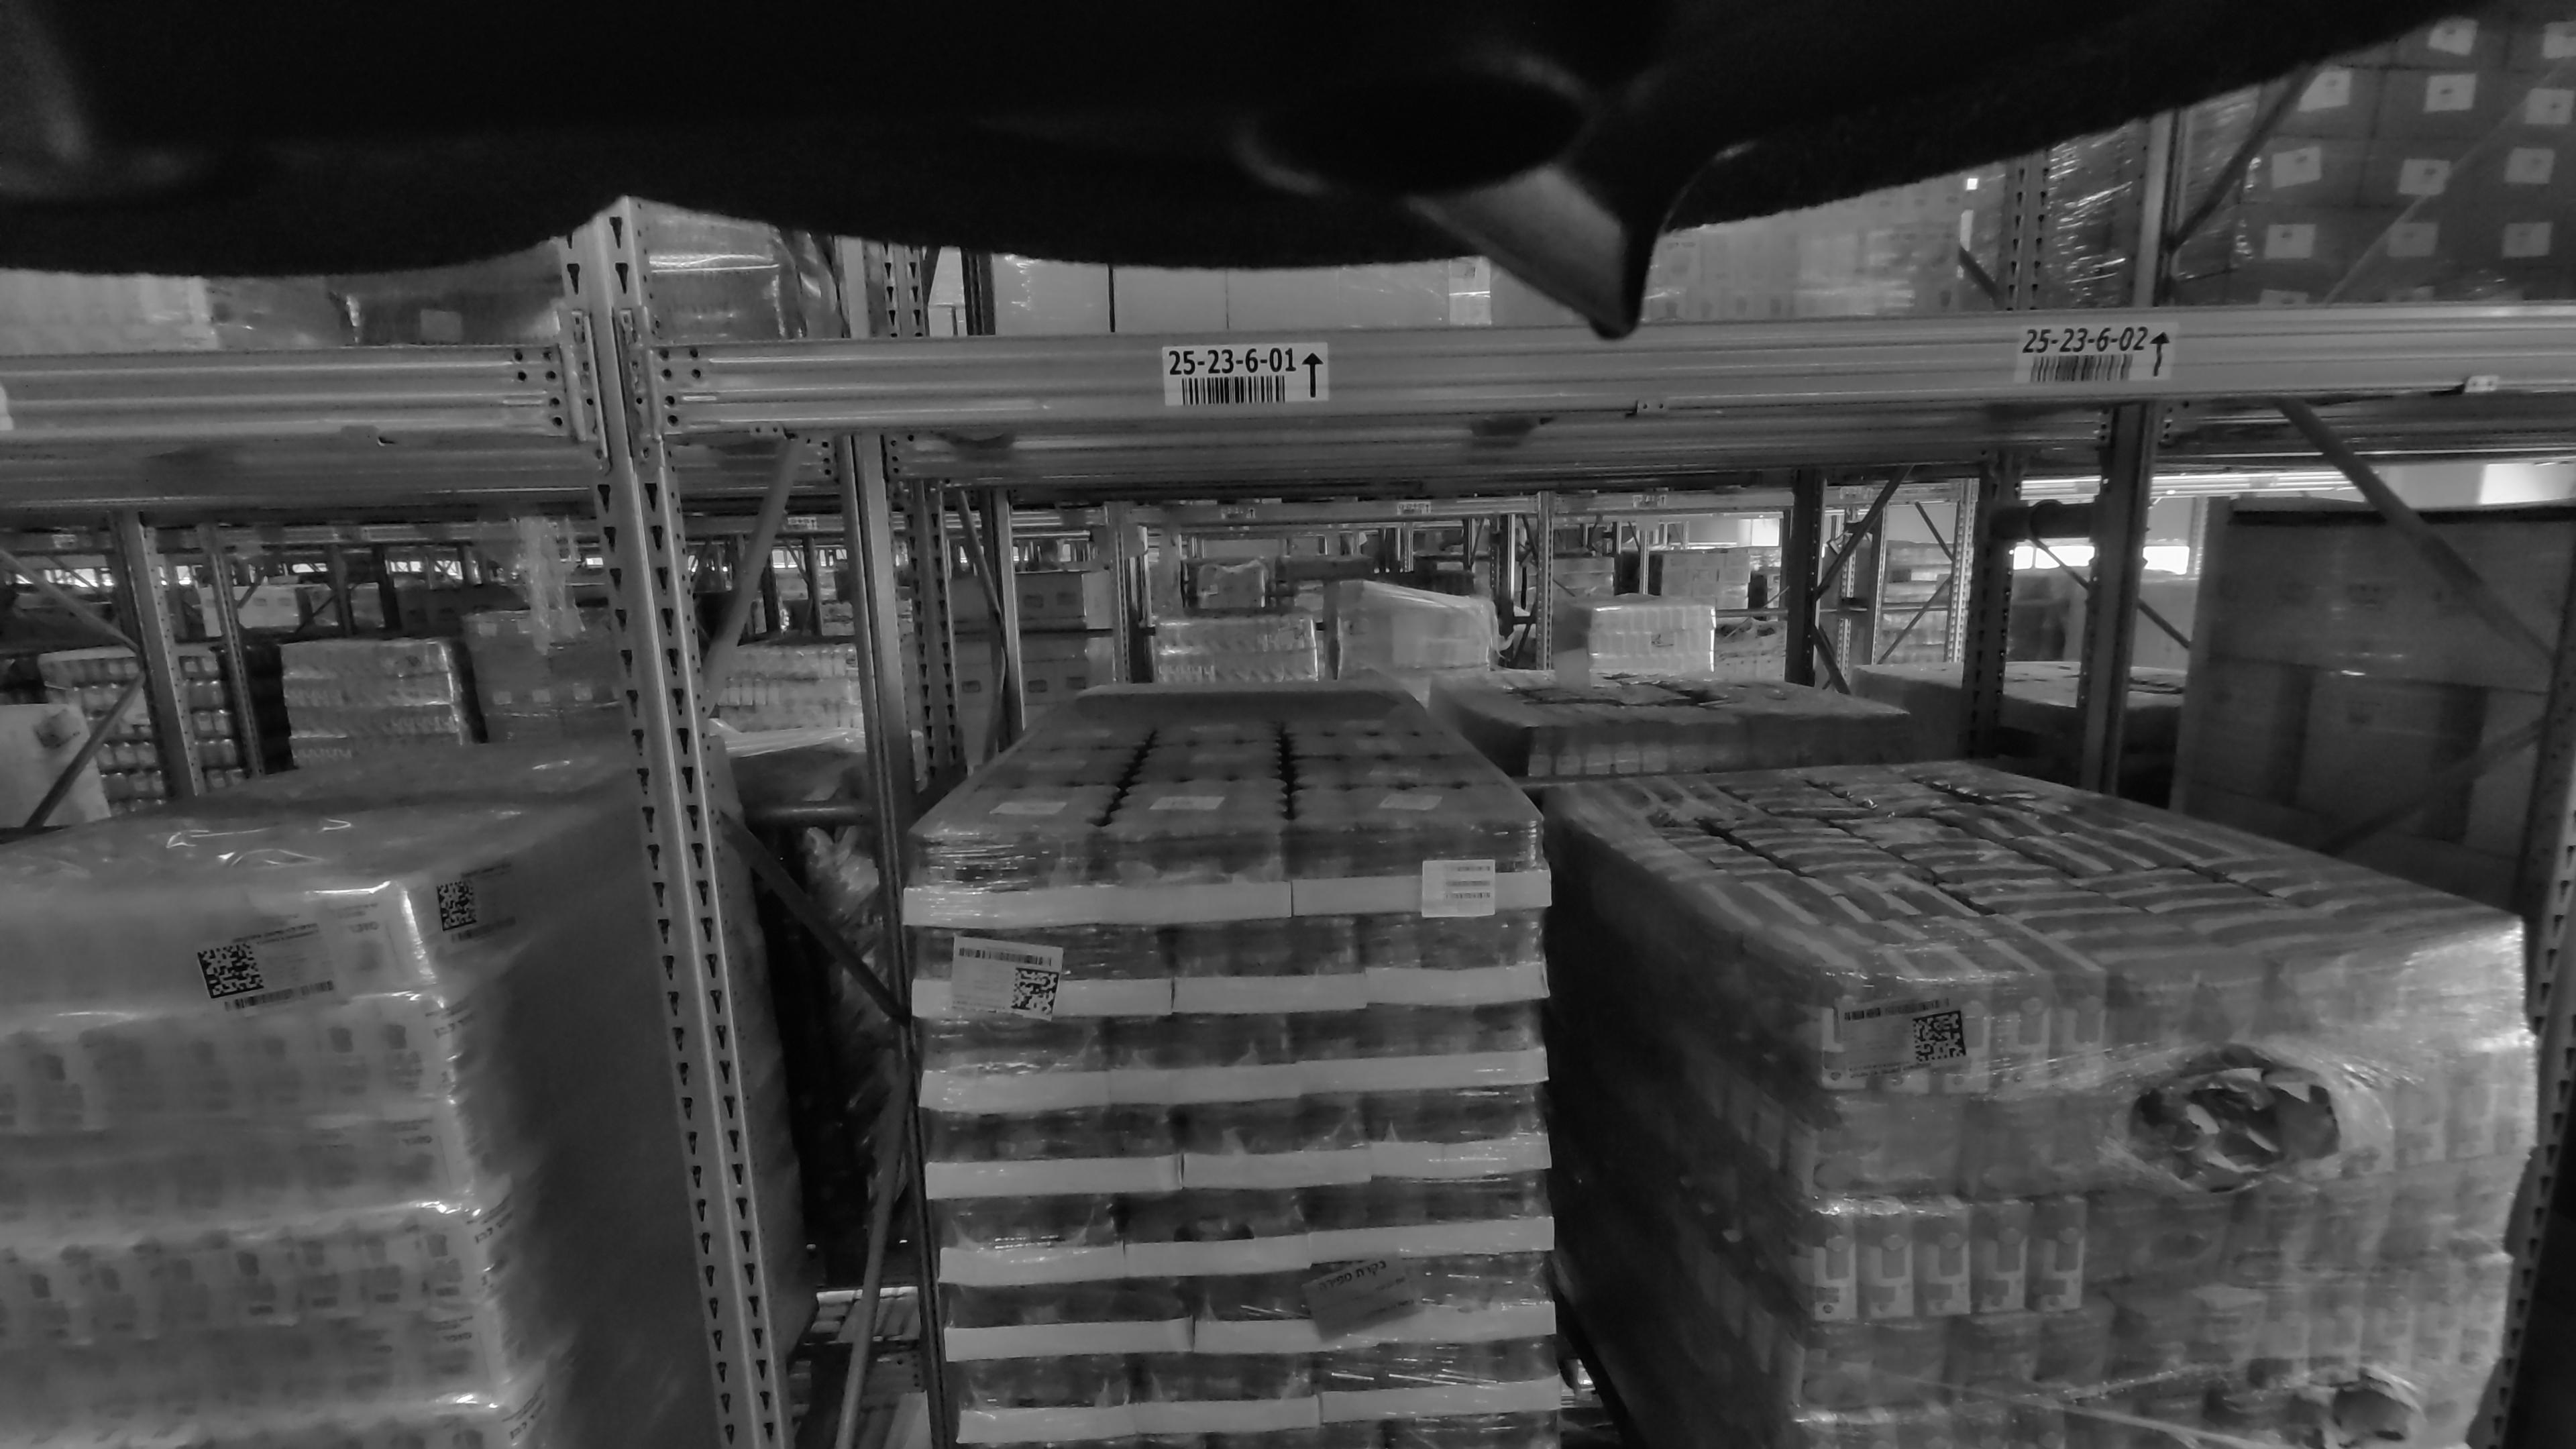empty-shelf: (1695, 126, 2507, 295), (697, 186, 1529, 322)
